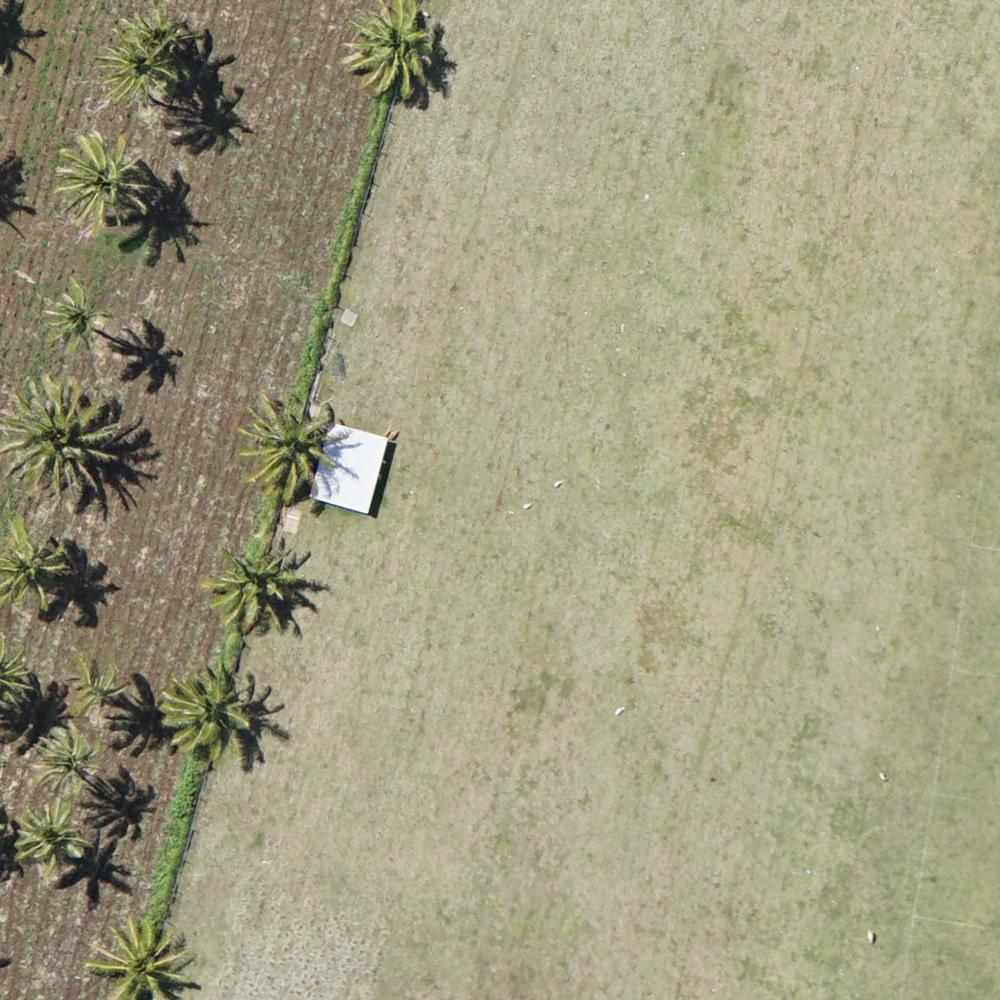Palm: (4, 372, 121, 497), (245, 395, 347, 499), (340, 4, 443, 105), (205, 541, 309, 630), (52, 131, 148, 226), (89, 914, 194, 1000), (164, 667, 248, 752), (1, 520, 70, 613), (99, 32, 176, 98), (15, 801, 82, 874), (33, 724, 99, 791), (46, 280, 107, 349)
